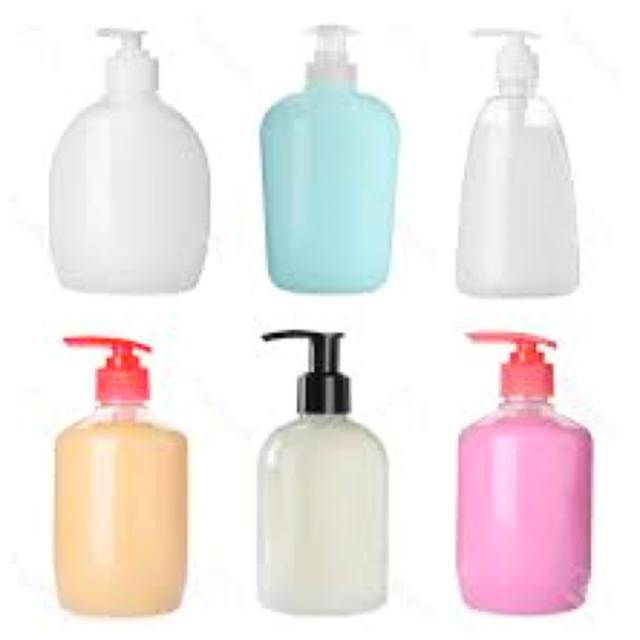liquid soap: (43, 11, 219, 310), (444, 319, 605, 623), (242, 319, 398, 620), (43, 330, 196, 631), (251, 14, 409, 305), (438, 17, 591, 313)
